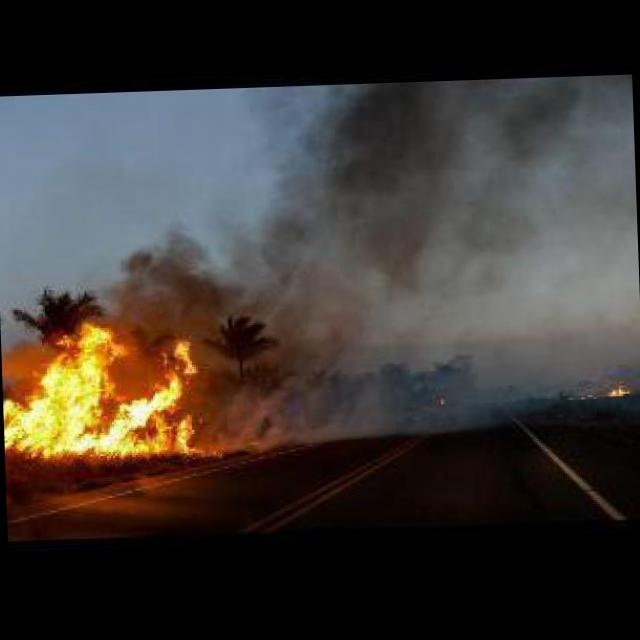fire: (0, 322, 216, 464), (608, 382, 633, 393)
smoke: (99, 80, 636, 364), (202, 358, 484, 458)
